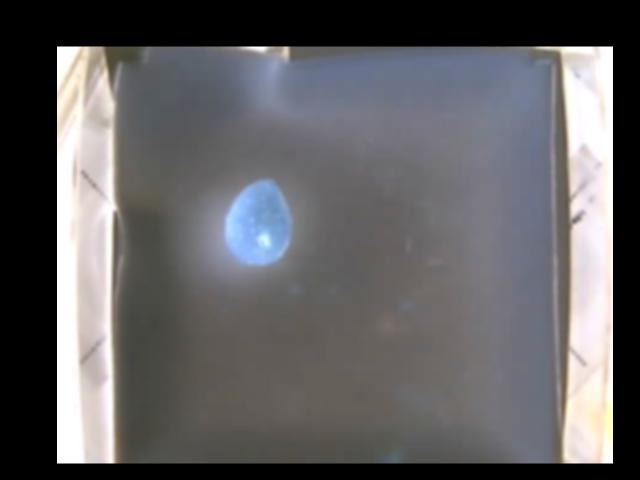Potato: (226, 177, 289, 264)
